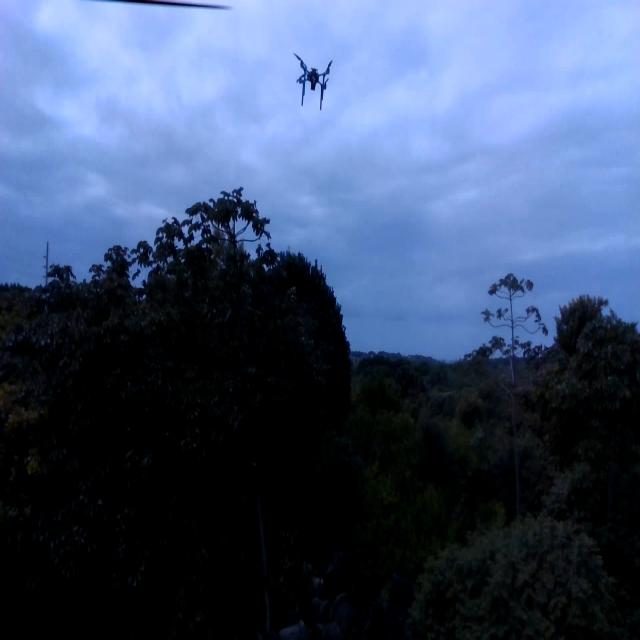-uav-: (290, 37, 338, 130)
